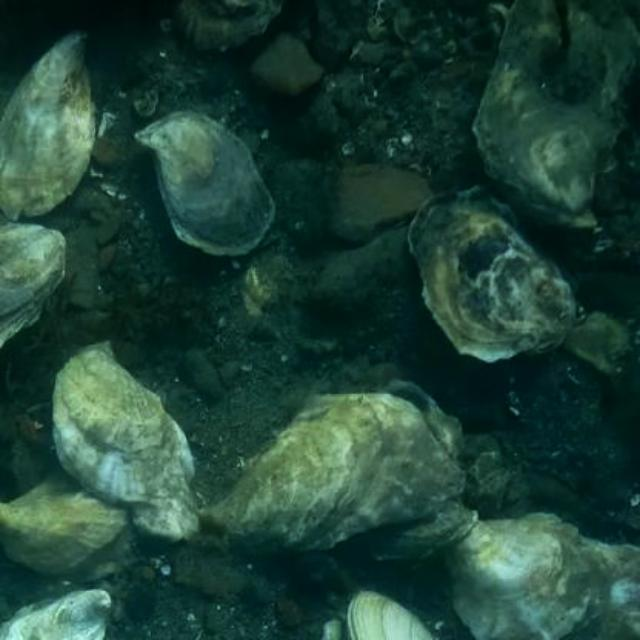Oyster-Closed: (204, 392, 465, 548), (474, 0, 640, 230), (54, 339, 204, 542), (407, 185, 578, 363), (445, 513, 640, 640), (136, 110, 277, 254), (0, 30, 95, 221), (0, 468, 165, 576), (0, 222, 67, 347), (371, 500, 476, 564), (0, 589, 113, 640), (172, 0, 290, 48)
